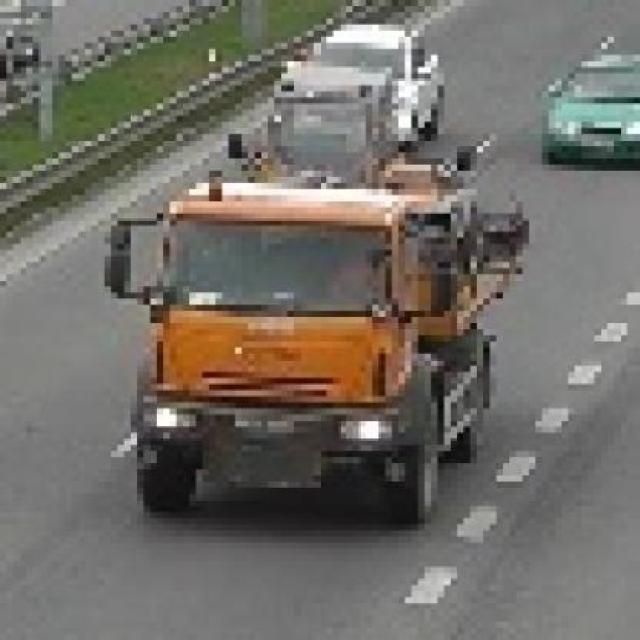truck: (113, 160, 517, 514)
